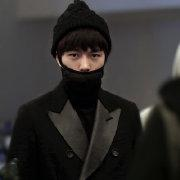WRONG: (59, 41, 108, 90)
